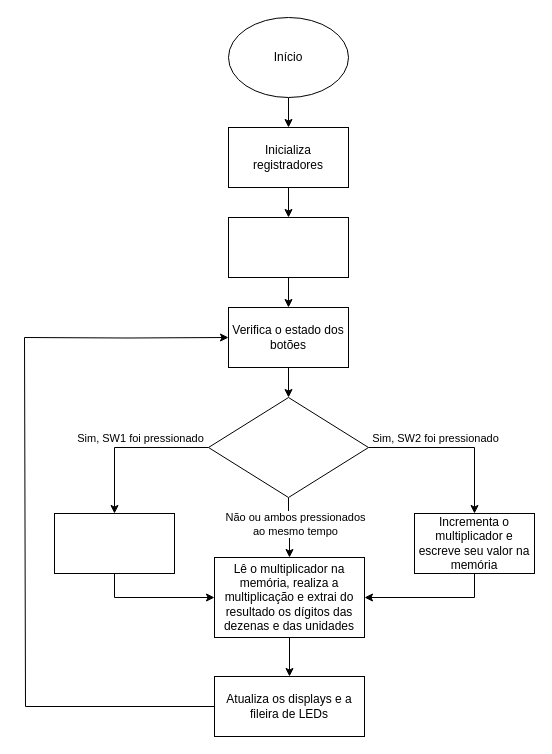
This 552x754 diagram has some shape labels left out. The centre of each missing label's shape, as x and y in pixels:
"Estado dos botões mudou?" goes at point 288,447.
"Incrementa a tabuada" goes at point 114,543.
"Inicializa as posições da memória" goes at point 288,247.
